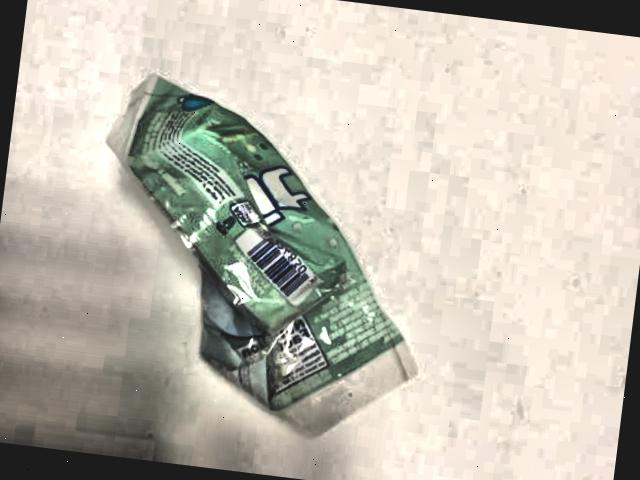Plastic: (66, 50, 463, 446)
